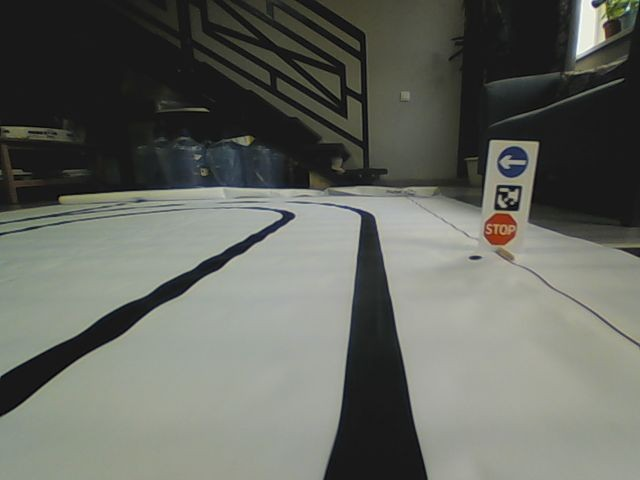Stop: (482, 212, 518, 247)
